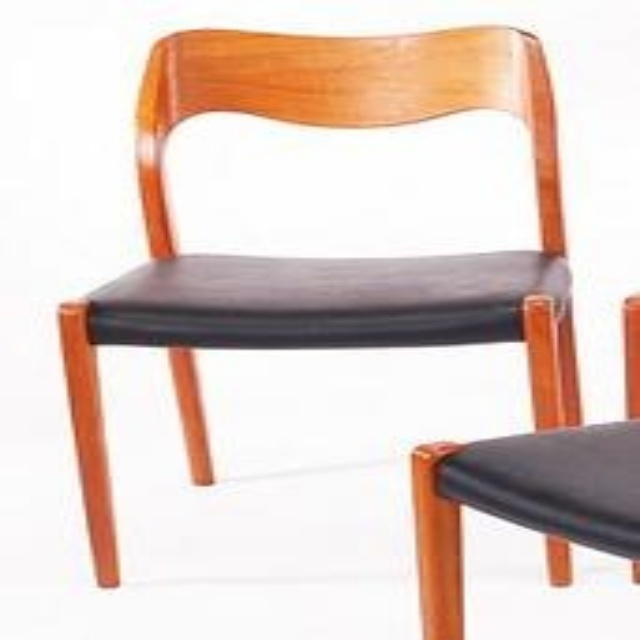obstacle: (60, 25, 576, 585)
